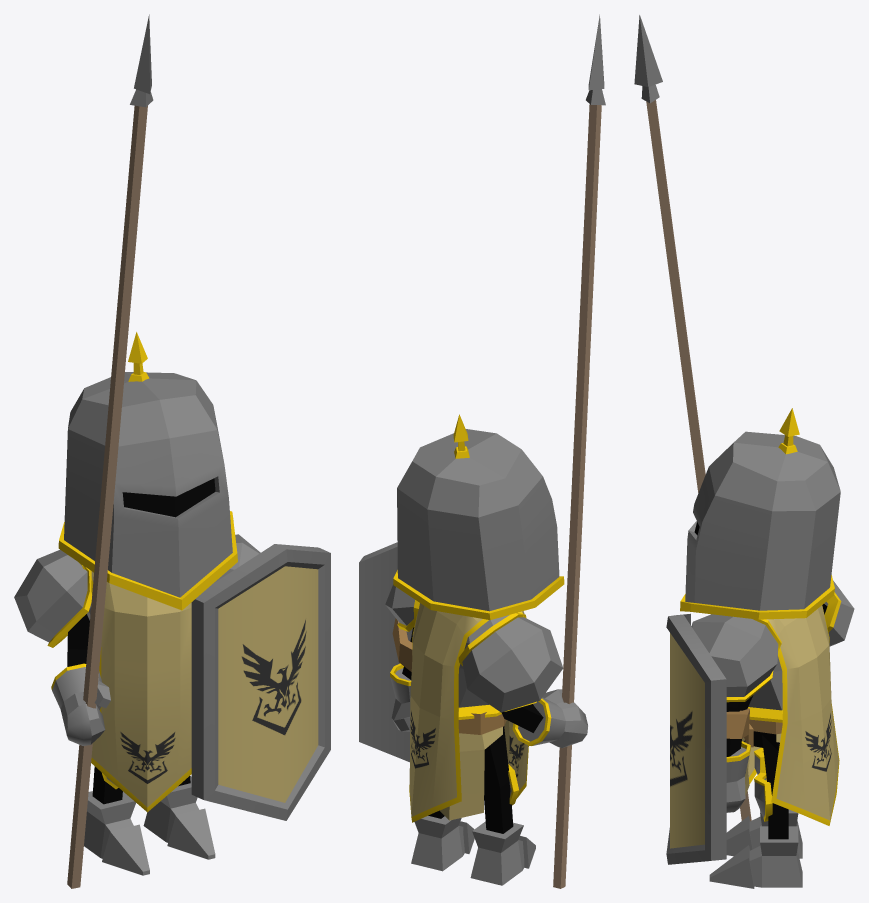
3 views of the same model, side by side, from view 1: azimuth 30°, elevation 25°; view 2: azimuth 150°, elevation 25°; view 3: azimuth 270°, elevation 25° (orthographic). The views are drawn at different scales.
Visible parts, largest first — view 1: Soldier_44; view 2: Soldier_44; view 3: Soldier_44.
Boxes of the visible parts, bbox=[...] form: Soldier_44: bbox=[14, 14, 330, 888]; Soldier_44: bbox=[359, 14, 605, 888]; Soldier_44: bbox=[634, 15, 854, 888].
Bounding box in the file's own units: 0.9894 × 3.36 × 0.8026.
10 materials, 2 textured.
